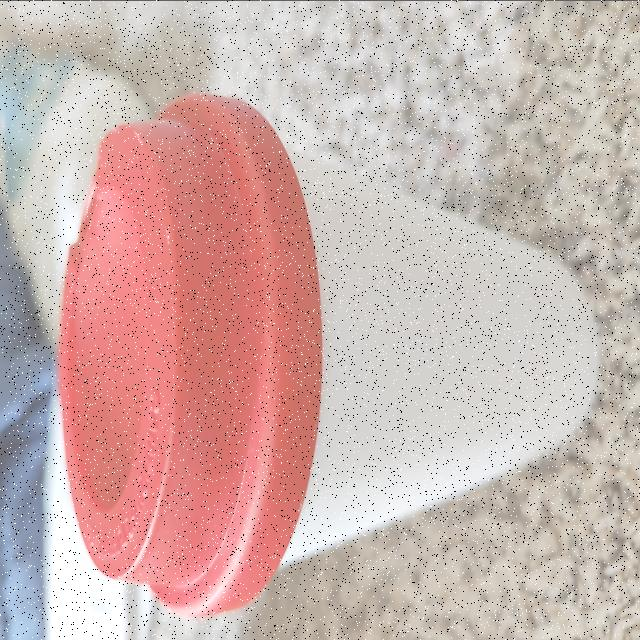mug: (62, 90, 596, 606)
